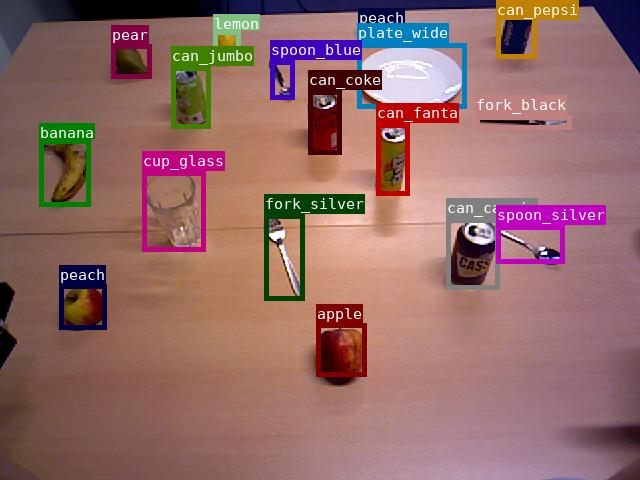apple: (316, 323, 366, 376)
banana: (39, 139, 90, 206)
can_cassis: (446, 218, 499, 289)
can_coke: (308, 90, 341, 154)
can_fanta: (376, 123, 409, 195)
can_jumbo: (171, 66, 210, 128)
can_pepsi: (496, 0, 536, 58)
cup_glass: (142, 171, 205, 251)
fork_black: (475, 115, 571, 129)
fork_silver: (264, 214, 304, 300)
lemon: (213, 30, 240, 60)
peach: (59, 284, 106, 329), (358, 8, 388, 41)
pear: (111, 44, 151, 78)
plate_wide: (357, 43, 466, 108)
spoon_blue: (270, 60, 294, 99)
spoon_silver: (496, 225, 564, 263)
